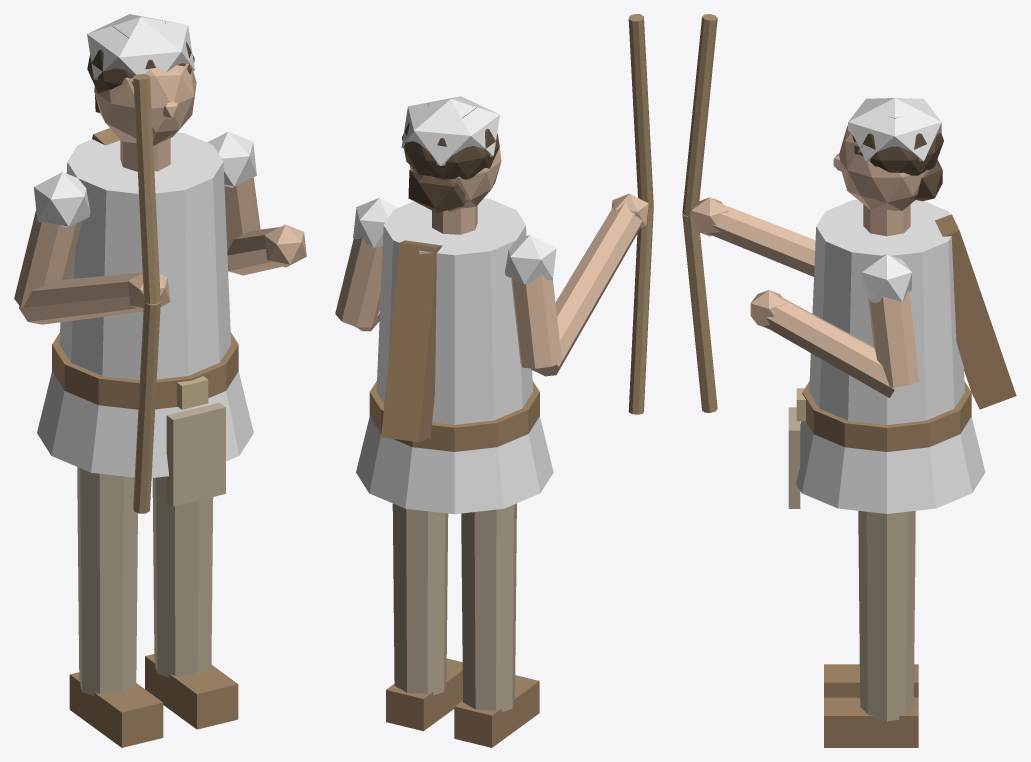
The model's file is civ_unit_archer.glb.
The picture shows the model from 3 angles, left to right: view 1: azimuth 30°, elevation 25°; view 2: azimuth 150°, elevation 25°; view 3: azimuth 270°, elevation 25°; orthographic projection. The views are drawn at different scales.
Visible parts, largest first — view 1: civ_unit_archer; view 2: civ_unit_archer; view 3: civ_unit_archer.
Part boxes in pixels (x1,y1,x2,y2): civ_unit_archer: (14, 14, 306, 747); civ_unit_archer: (335, 14, 653, 747); civ_unit_archer: (682, 14, 1016, 747).
Bounding box in the file's own units: 0.6451 × 1.85 × 0.8491.
